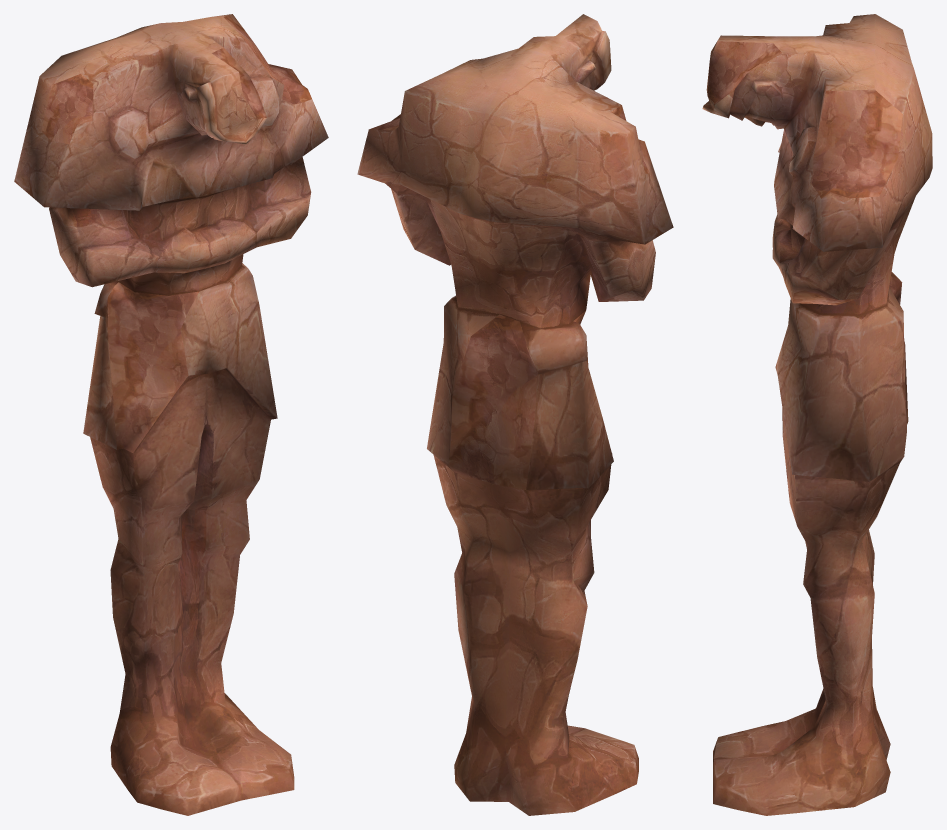
File: kor_vod_greatstatue02.glb
The picture shows the model from 3 angles, left to right: view 1: azimuth 30°, elevation 25°; view 2: azimuth 150°, elevation 25°; view 3: azimuth 270°, elevation 25°; orthographic projection.
Parts seen in each view (by area): view 1: kor_vod_greatstatue02; view 2: kor_vod_greatstatue02; view 3: kor_vod_greatstatue02.
Part boxes in pixels (left/top/right/bottom): kor_vod_greatstatue02: left=14, top=14, right=328, bottom=815; kor_vod_greatstatue02: left=357, top=14, right=673, bottom=815; kor_vod_greatstatue02: left=702, top=14, right=932, bottom=815.
Size of the model in its own units: 11.37 by 27.71 by 7.85.
1 material, 1 textured.
